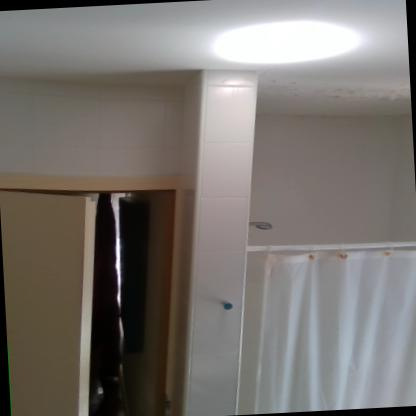closed: (242, 213, 416, 414)
semi: (0, 148, 199, 416)
